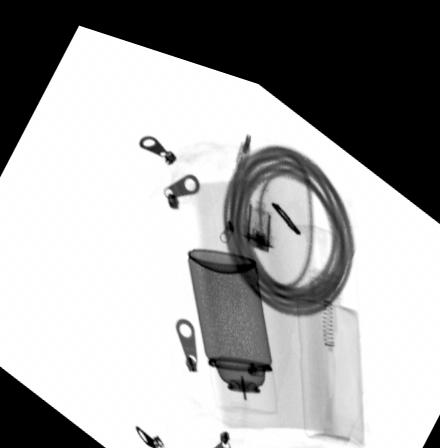Sprayer: (185, 233, 280, 400)
